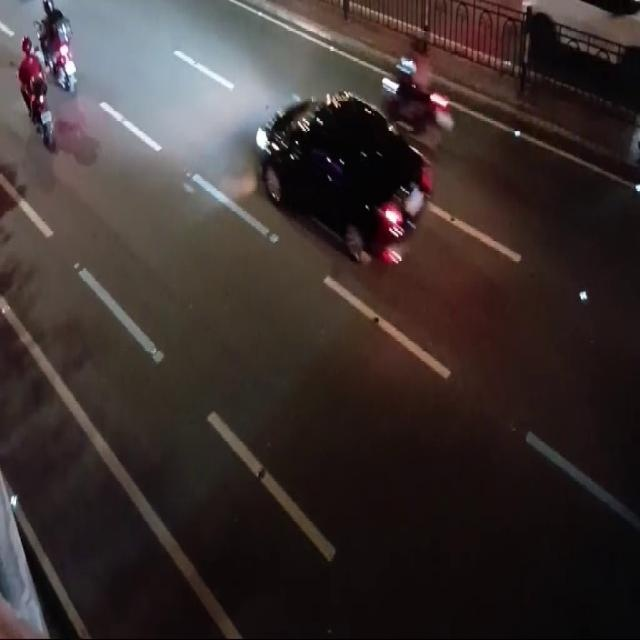car: (254, 93, 442, 263)
motorcycle: (43, 31, 623, 166), (382, 33, 456, 137)
